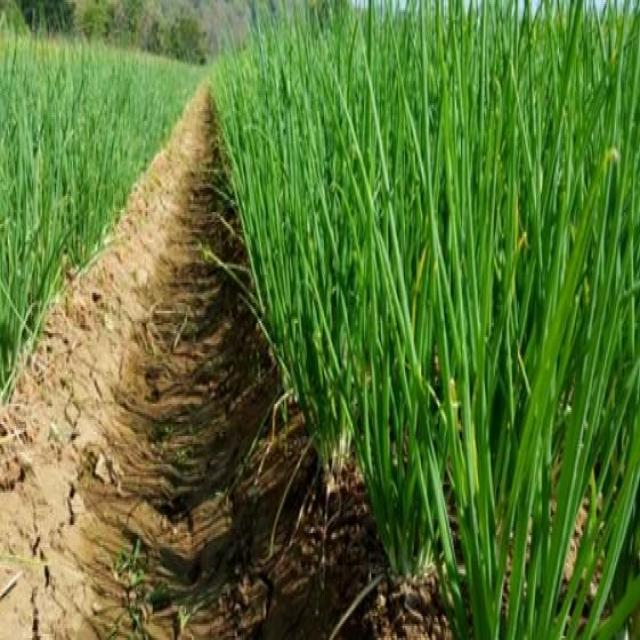row: (0, 81, 351, 640)
